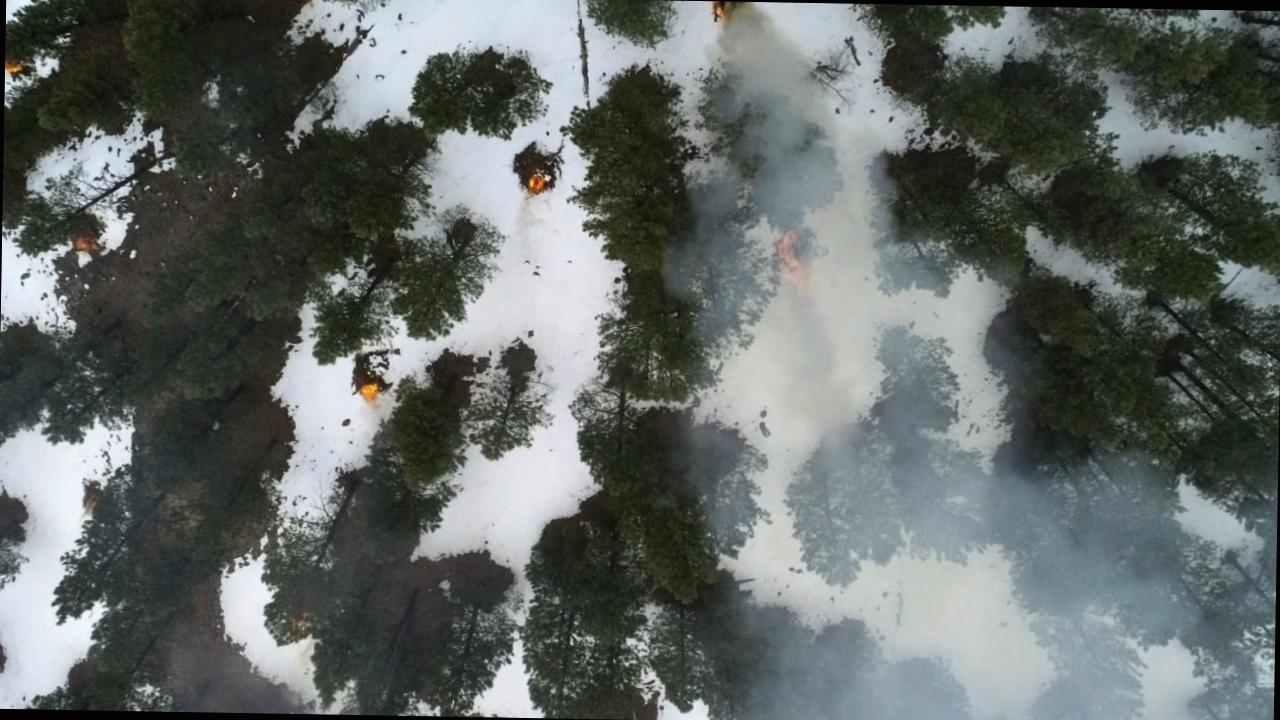fire: (776, 225, 814, 288), (524, 170, 554, 205), (356, 386, 386, 411)
smoke: (661, 453, 1278, 720), (672, 174, 1112, 456), (704, 84, 824, 172)
